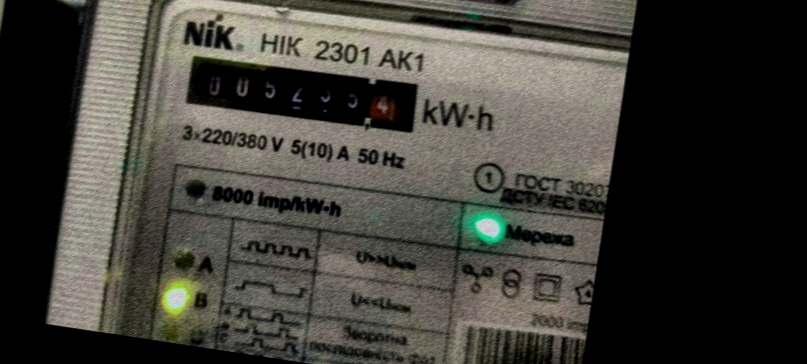0: (205, 68, 223, 95), (233, 70, 251, 96)
2: (288, 75, 307, 103)
3: (315, 76, 335, 103)
4: (372, 84, 394, 116)
5: (342, 79, 362, 109), (261, 72, 278, 98)
screen: (171, 36, 429, 145)
